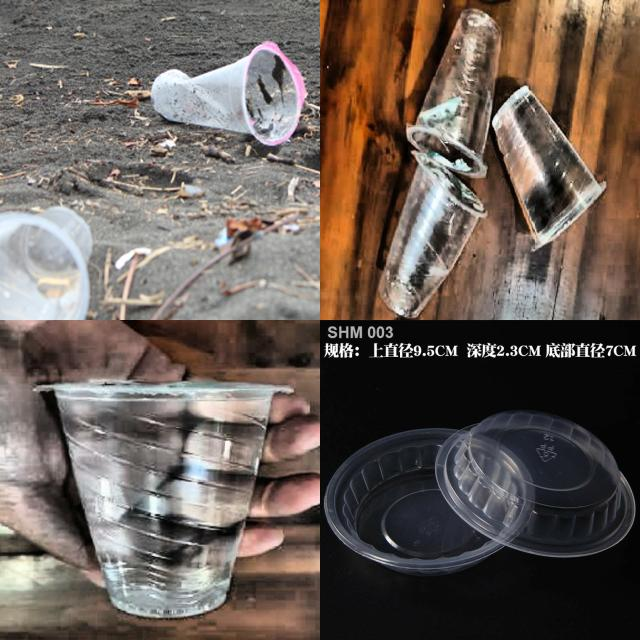Single-Use-Plastic: (54, 382, 284, 619), (435, 410, 635, 557), (325, 429, 502, 575), (492, 86, 606, 249), (379, 152, 486, 317), (151, 41, 306, 145), (406, 9, 501, 178), (0, 206, 92, 319)
